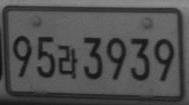3: (129, 36, 151, 81), (83, 36, 103, 80)
5: (36, 36, 55, 78)
9: (152, 37, 175, 81), (105, 36, 127, 79), (12, 34, 33, 77)
라: (57, 44, 79, 78)
